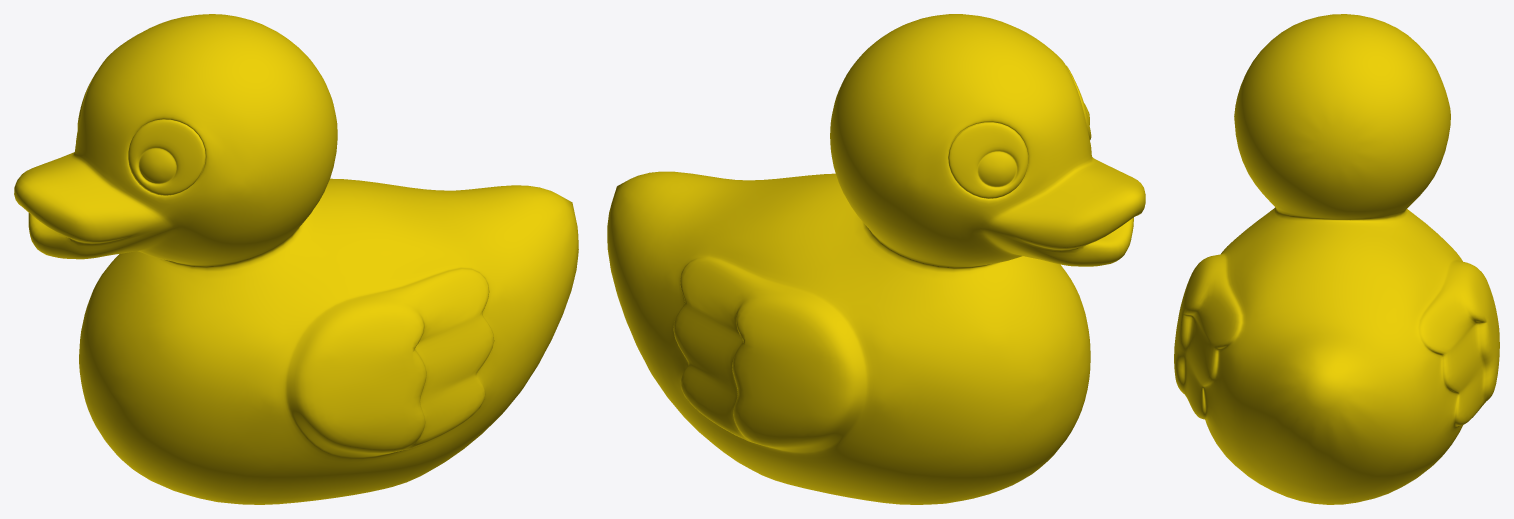
Rendered from duck.fbx.
3 renders of one model, left to right at view 1: azimuth 30°, elevation 25°; view 2: azimuth 150°, elevation 25°; view 3: azimuth 270°, elevation 25°, orthographic. The views are drawn at different scales.
Parts seen in each view (by area): view 1: 19354_Rubber_duck_v1; view 2: 19354_Rubber_duck_v1; view 3: 19354_Rubber_duck_v1.
Part boxes in pixels (x1,y1,x2,y2): 19354_Rubber_duck_v1: [14, 14, 578, 504]; 19354_Rubber_duck_v1: [607, 14, 1145, 504]; 19354_Rubber_duck_v1: [1174, 14, 1499, 504].
Bounding box in the file's own units: 490 × 412 × 302.
